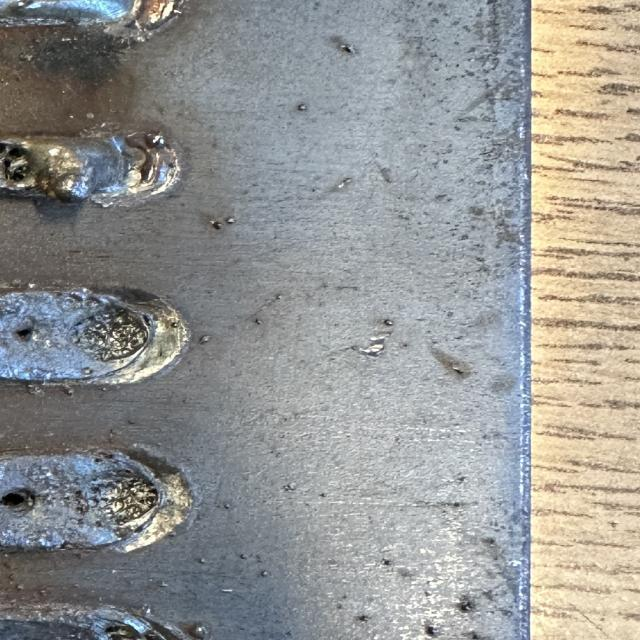Excess Reinforcement: (115, 132, 180, 201), (75, 120, 168, 139), (48, 171, 95, 202), (145, 132, 172, 149)
Porosity: (75, 306, 148, 361), (90, 469, 158, 525), (0, 141, 28, 188), (0, 489, 35, 511), (0, 155, 28, 181), (105, 625, 128, 639), (15, 328, 33, 341), (8, 146, 27, 158), (142, 315, 153, 329), (78, 505, 87, 515), (73, 490, 83, 498), (93, 456, 103, 464), (93, 521, 103, 529), (100, 452, 110, 458), (105, 454, 113, 459), (77, 519, 83, 524)
Spatters: (358, 335, 386, 356), (185, 621, 210, 640), (458, 600, 473, 612), (27, 384, 45, 394), (337, 178, 353, 189), (62, 385, 75, 396), (340, 44, 355, 53), (282, 482, 297, 491), (425, 625, 437, 636), (167, 529, 180, 539), (198, 335, 210, 344), (357, 614, 370, 622), (212, 221, 222, 230), (8, 572, 17, 582), (297, 104, 307, 111), (383, 319, 393, 326), (382, 559, 392, 566), (15, 584, 25, 591), (260, 570, 268, 578), (170, 321, 179, 328), (225, 218, 235, 224), (198, 558, 207, 564), (100, 386, 110, 391), (223, 502, 230, 509), (87, 112, 95, 118), (160, 581, 168, 587), (255, 319, 262, 325), (240, 554, 248, 559), (222, 589, 233, 592), (337, 604, 343, 609), (425, 592, 432, 596), (277, 295, 283, 299), (342, 594, 348, 598)
